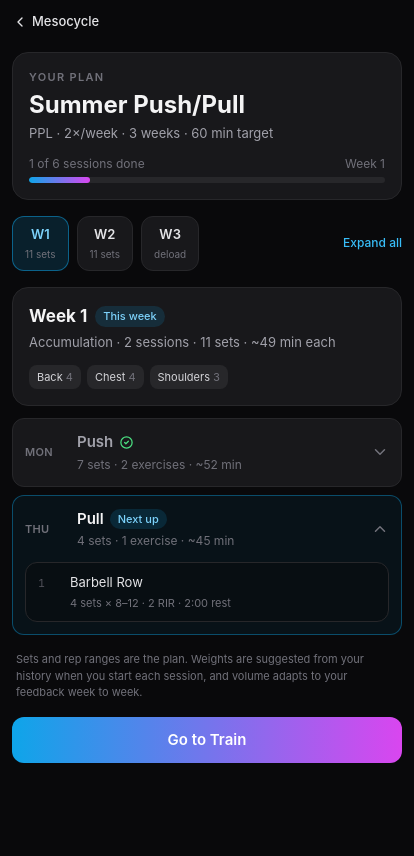
Test: MesocyclePlanPage › expands a collapsed session on tap
The width and height of the screenshot is (414, 856).
Click the button "Mon Push 7 sets · 2 exercises · ~52 min": (95, 442) [13,419,401,486]
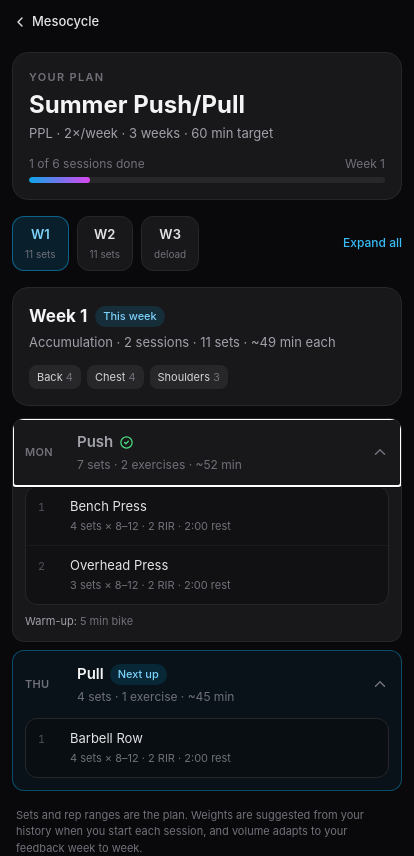
Result: the text "Bench Press" is shown at [70,498,147,514]
Result: the text "Warm-up:" is shown at [25,614,77,628]
